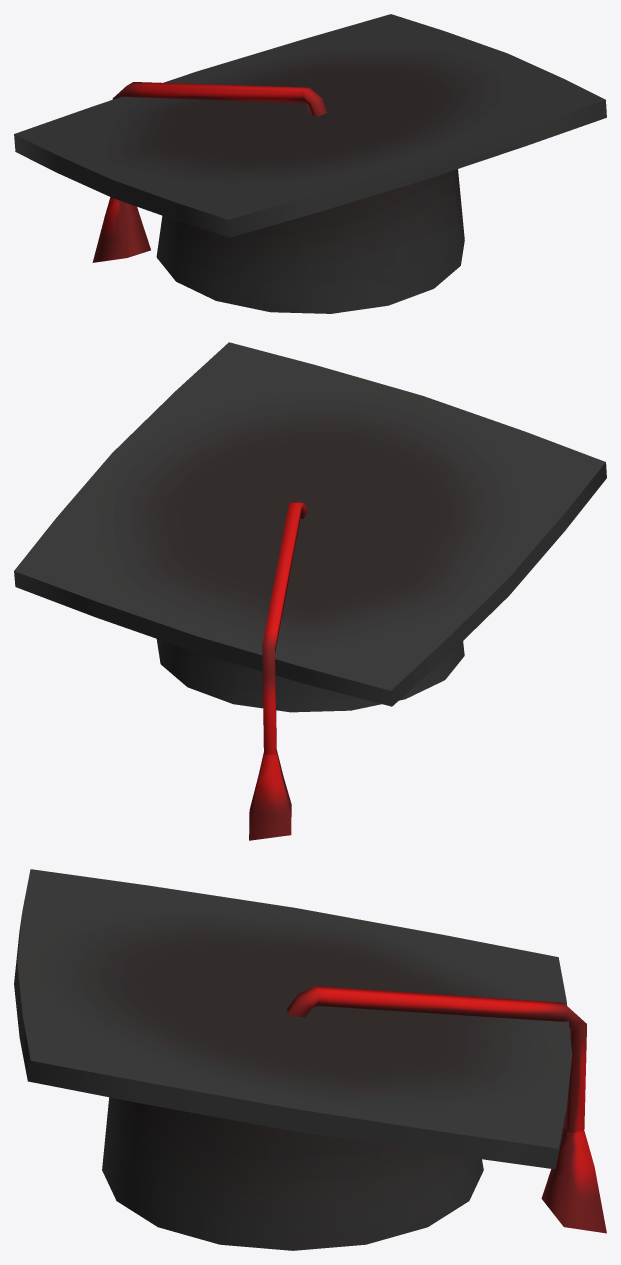
Rendered from m_BachelorHat01.obj.
3 views of the same model, one above another, from view 1: azimuth 30°, elevation 25°; view 2: azimuth 150°, elevation 25°; view 3: azimuth 270°, elevation 25° (orthographic). The views are drawn at different scales.
Parts seen in each view (by area): view 1: m_BachelorHat01_mat_BachelorHat01; view 2: m_BachelorHat01_mat_BachelorHat01; view 3: m_BachelorHat01_mat_BachelorHat01.
Part boxes in pixels (bbox=[...]): m_BachelorHat01_mat_BachelorHat01: bbox=[14, 14, 606, 313]; m_BachelorHat01_mat_BachelorHat01: bbox=[14, 342, 606, 840]; m_BachelorHat01_mat_BachelorHat01: bbox=[14, 869, 606, 1250].
Size of the model in its own units: 0.6423 by 0.4105 by 0.678.
Materials: 1 (1 with a texture image).
